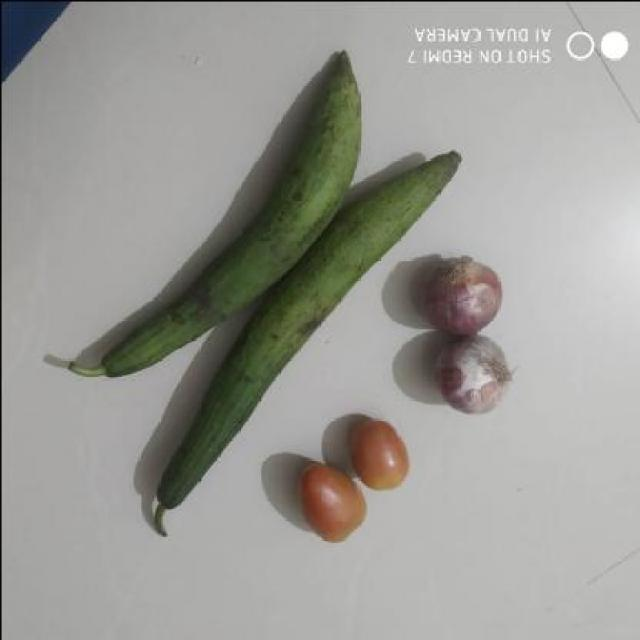onion: (430, 331, 513, 418), (418, 248, 500, 335)
tomato: (294, 458, 366, 544), (348, 414, 410, 491)
